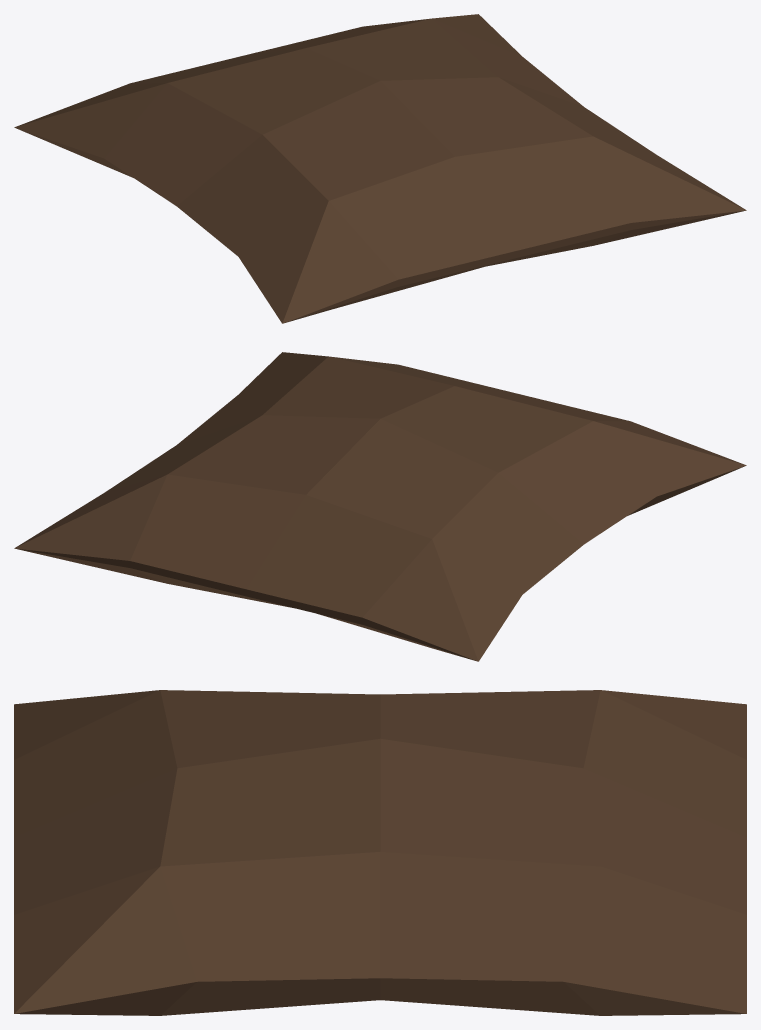
The model's file is Pillow_1B.fbx.
3 renders of one model, top to bottom at view 1: azimuth 30°, elevation 25°; view 2: azimuth 150°, elevation 25°; view 3: azimuth 270°, elevation 25°, orthographic. The views are drawn at different scales.
Visible parts, largest first — view 1: pCube964; view 2: pCube964; view 3: pCube964.
Boxes of the visible parts, x1=… form: pCube964: x1=14, y1=14, x2=746, y2=323; pCube964: x1=14, y1=352, x2=746, y2=661; pCube964: x1=14, y1=690, x2=746, y2=1015.
Bounding box in the file's own units: 0.5045 × 0.1628 × 0.5045.
1 material, 1 textured.
